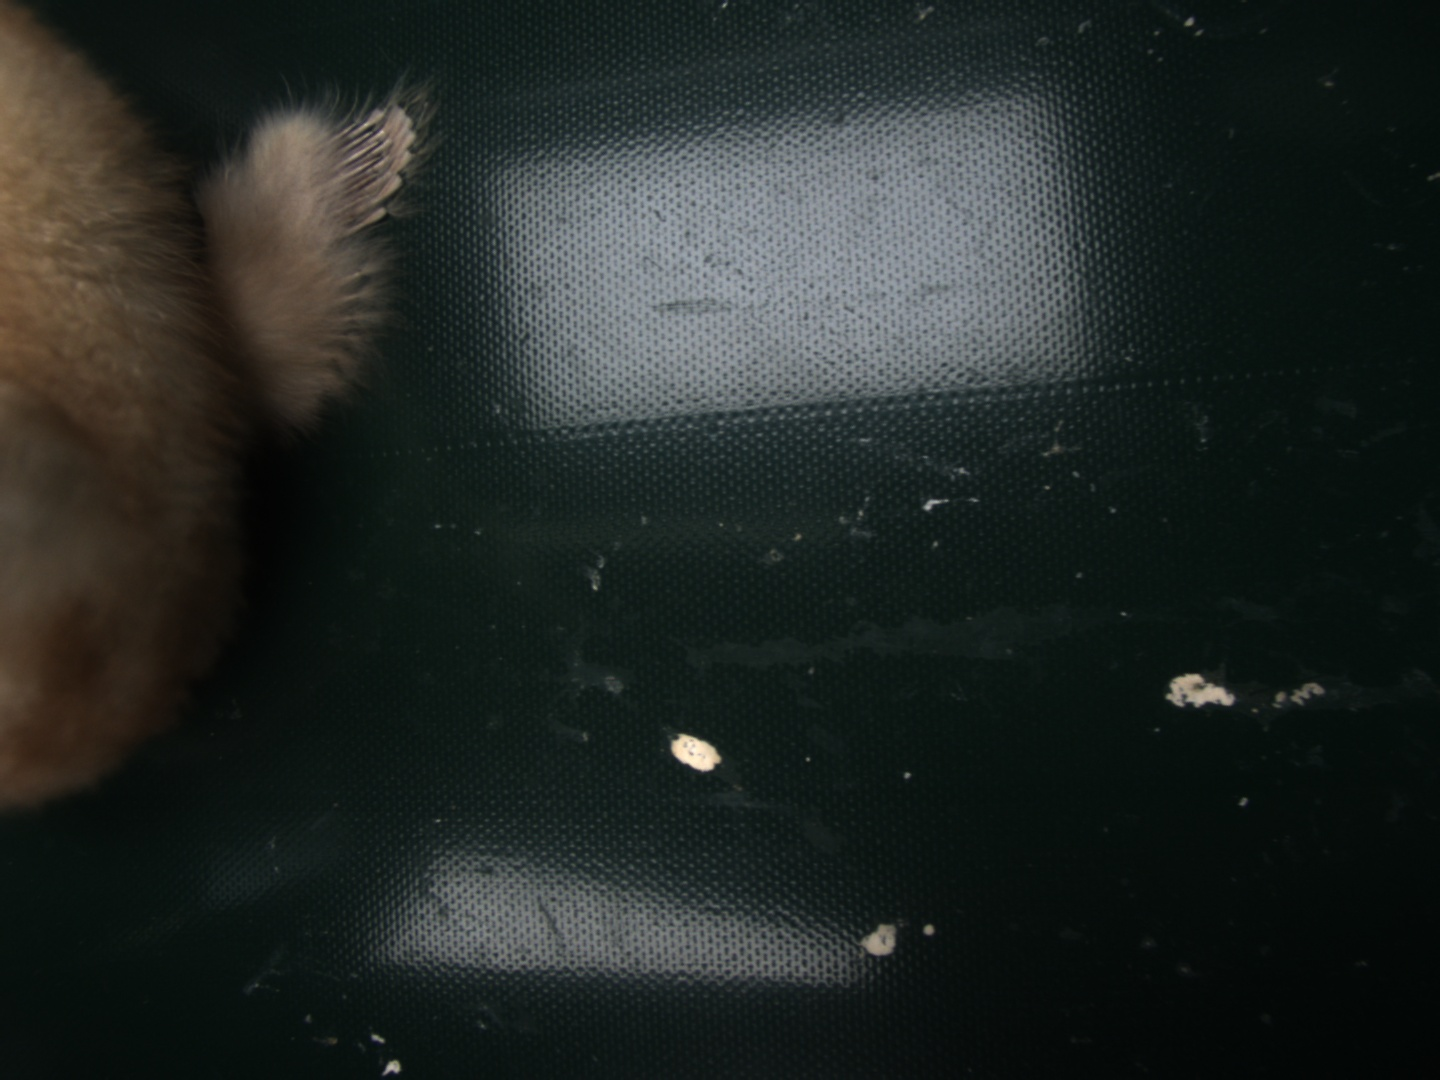female: (317, 101, 421, 248)
